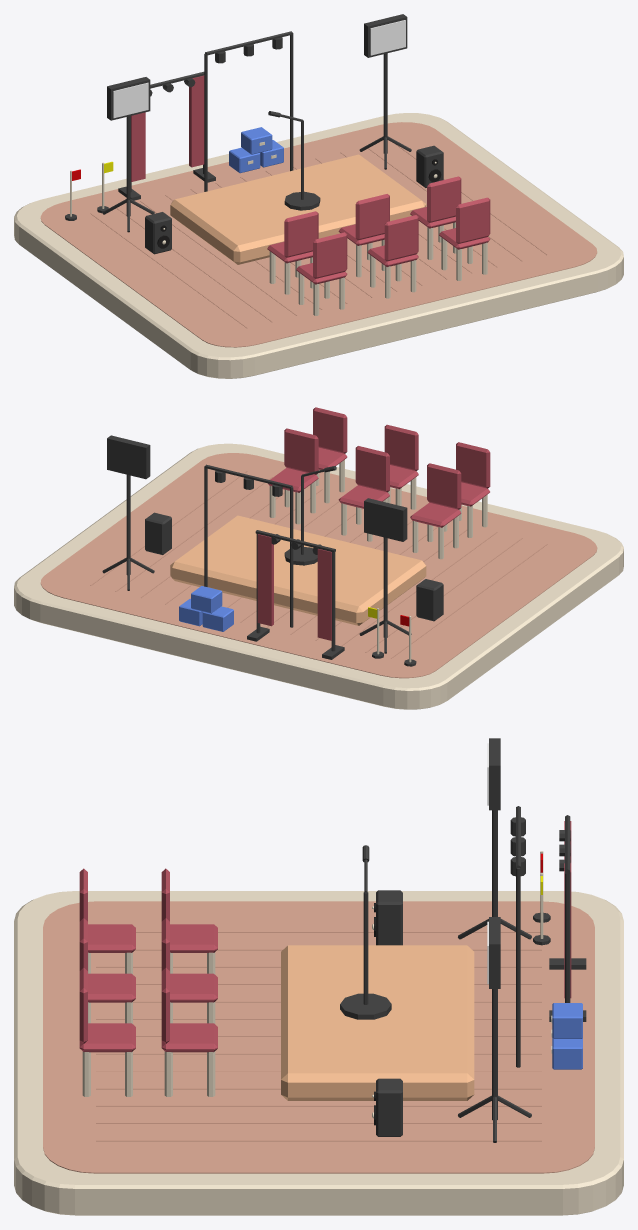
The picture shows the model from 3 angles, top to bottom: view 1: azimuth 30°, elevation 25°; view 2: azimuth 150°, elevation 25°; view 3: azimuth 270°, elevation 25°; orthographic projection. The views are drawn at different scales.
Visible parts, largest first — view 1: COM-02 Floor Surface, COM-01 Rounded Base Direct, Low stage, Backrest.004, Backrest.003, Backrest.005, Backrest.001, Backrest, Backrest.002, Diffuser.001, Diffuser, Enclosure (+12 smaller); view 2: COM-02 Floor Surface, COM-01 Rounded Base Direct, Low stage, Light panel, Light panel.001, Backrest, Backrest.001, Backrest.002, Backrest.003, Backrest.005, Backrest.004, Enclosure (+19 smaller); view 3: COM-02 Floor Surface, COM-01 Rounded Base Direct, Low stage, Enclosure.001, Enclosure, Seat.005, Seat.002, Seat.001, Seat.004, Seat, Seat.003, Stacked case.002 (+12 smaller).
Part boxes in pixels (x1,y1,x2,y2): COM-02 Floor Surface: (40,122,597,347); COM-01 Rounded Base Direct: (14,113,623,378); Low stage: (170,154,426,264); Backrest.004: (384,215,418,261); Backrest.003: (313,232,347,278); Backrest.005: (456,197,490,243); Backrest.001: (355,194,389,240); Backrest: (284,211,318,257); Backrest.002: (427,176,461,222); Diffuser.001: (370,20,405,55); Diffuser: (113,82,148,118); Enclosure: (145,212,171,254); COM-02 Floor Surface: (40,453,597,678); COM-01 Rounded Base Direct: (14,443,623,709); Low stage: (170,515,426,625); Light panel: (364,498,407,541); Light panel.001: (107,435,150,479); Backrest: (427,463,461,509); Backrest.001: (355,446,389,492); Backrest.002: (284,428,318,474); Backrest.003: (456,442,490,488); Backrest.005: (313,407,347,453); Backrest.004: (384,424,418,471); Enclosure: (416,579,443,621); COM-02 Floor Surface: (43,901,594,1173); COM-01 Rounded Base Direct: (14,891,623,1215); Low stage: (281,945,474,1100); Enclosure.001: (376,1078,402,1136); Enclosure: (376,890,402,945); Seat.005: (79,1023,135,1052); Seat.002: (161,1023,217,1052); Seat.001: (170,973,217,1002); Seat.004: (88,973,135,1002); Seat: (170,924,217,952); Seat.003: (88,924,135,952); Stacked case.002: (552,1003,582,1038).
Size of the model in its own units: 6 by 2.19 by 5.2.
Materials: 1 (1 with a texture image).
